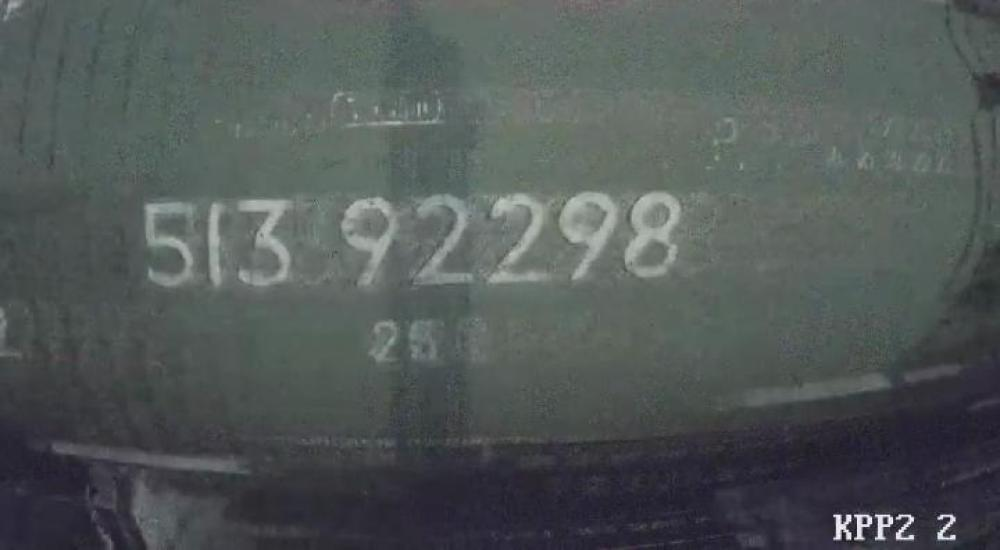Wagon-number: (134, 188, 690, 290)
